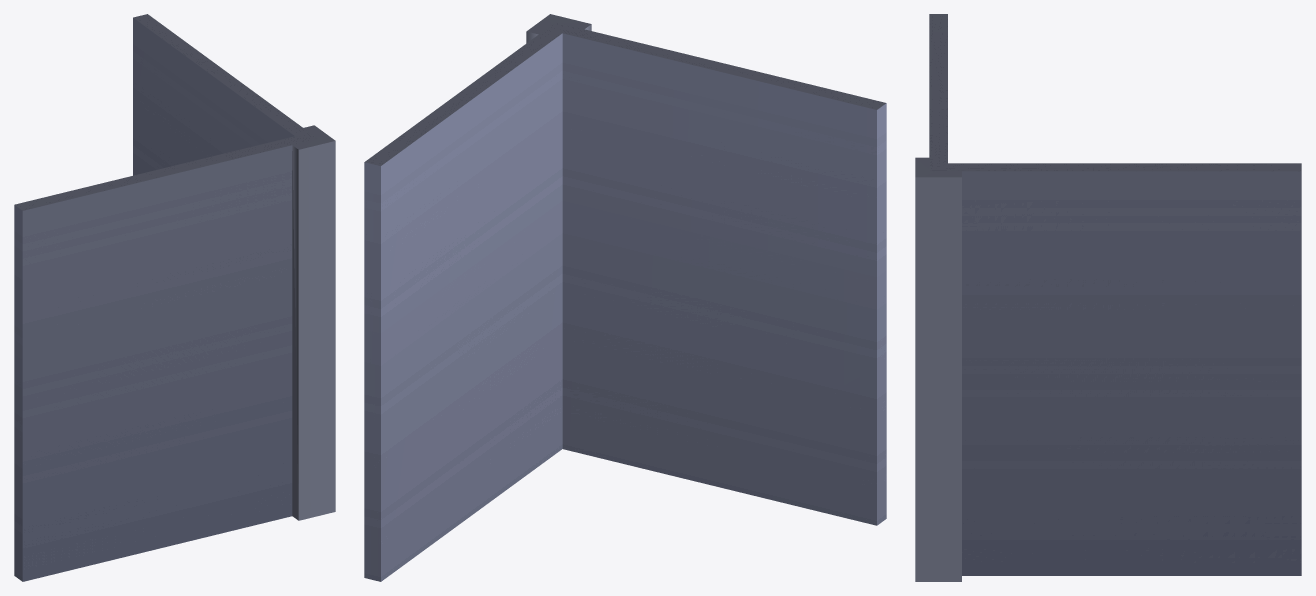
The model's file is wall-corner-column.glb.
3 views of the same model, side by side, from view 1: azimuth 30°, elevation 25°; view 2: azimuth 150°, elevation 25°; view 3: azimuth 270°, elevation 25° (orthographic). The views are drawn at different scales.
Visible parts, largest first — view 1: wall-corner-column; view 2: wall-corner-column; view 3: wall-corner-column.
Boxes of the visible parts, x1=… form: wall-corner-column: x1=14, y1=14, x2=335, y2=581; wall-corner-column: x1=364, y1=14, x2=886, y2=581; wall-corner-column: x1=915, y1=14, x2=1301, y2=581.
Bounding box in the file's own units: 2.08 × 2.4 × 2.07.
1 material, 1 textured.
